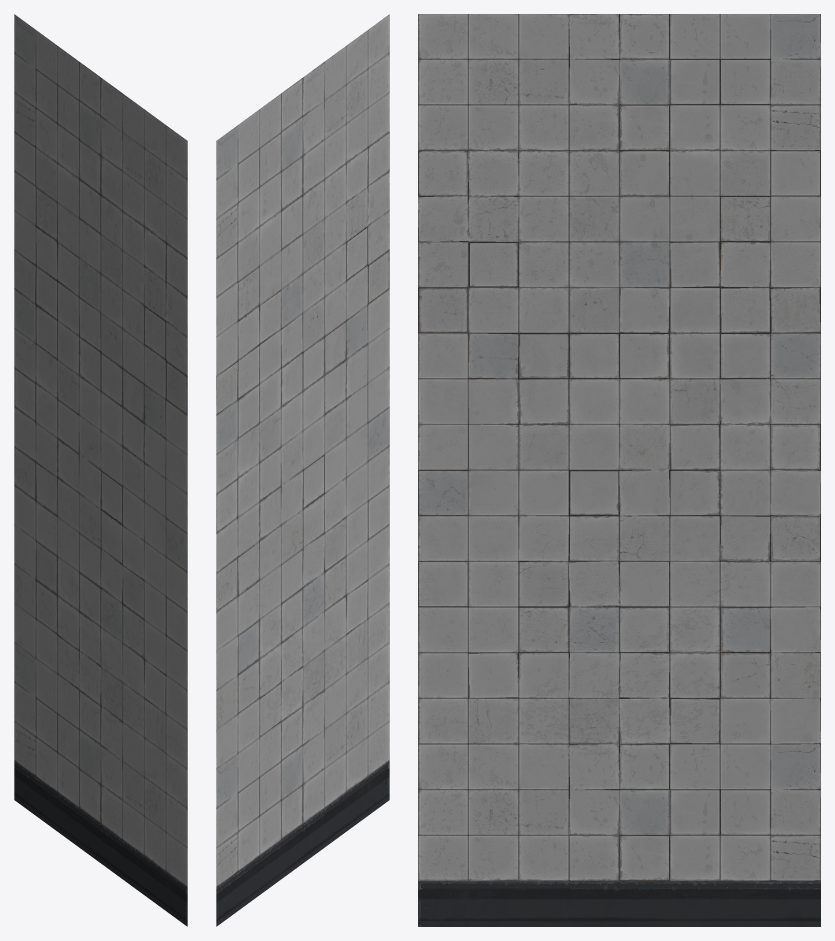
File: CP_Metro_Wall_B_2x5m.fbx
3 views of the same model, side by side, from view 1: azimuth 30°, elevation 25°; view 2: azimuth 150°, elevation 25°; view 3: azimuth 270°, elevation 25° (orthographic). The views are drawn at different scales.
Parts seen in each view (by area): view 1: CP_Metro_Wall_B_2x5m; view 2: CP_Metro_Wall_B_2x5m; view 3: CP_Metro_Wall_B_2x5m.
Part boxes in pixels (x1=…): CP_Metro_Wall_B_2x5m: x1=14, y1=14, x2=187, y2=926; CP_Metro_Wall_B_2x5m: x1=216, y1=14, x2=389, y2=926; CP_Metro_Wall_B_2x5m: x1=418, y1=14, x2=820, y2=926.
Bounding box in the file's own units: 1.51e-05 × 500 × 200.
